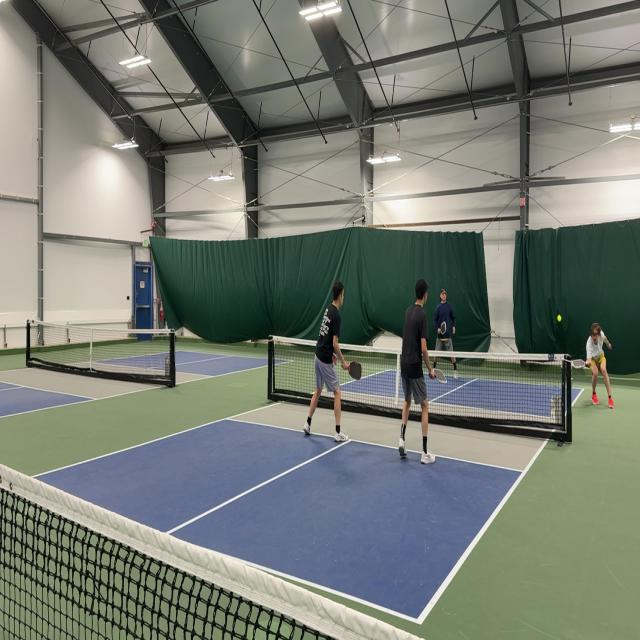ball: (557, 314, 562, 322)
